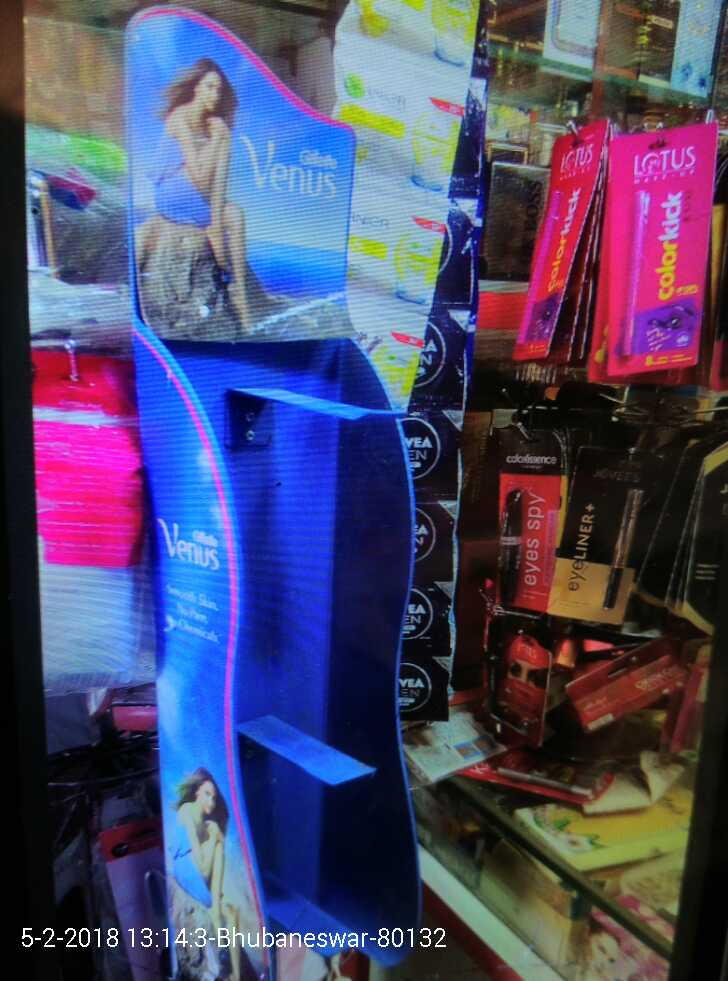reject: (96, 257, 259, 460)
